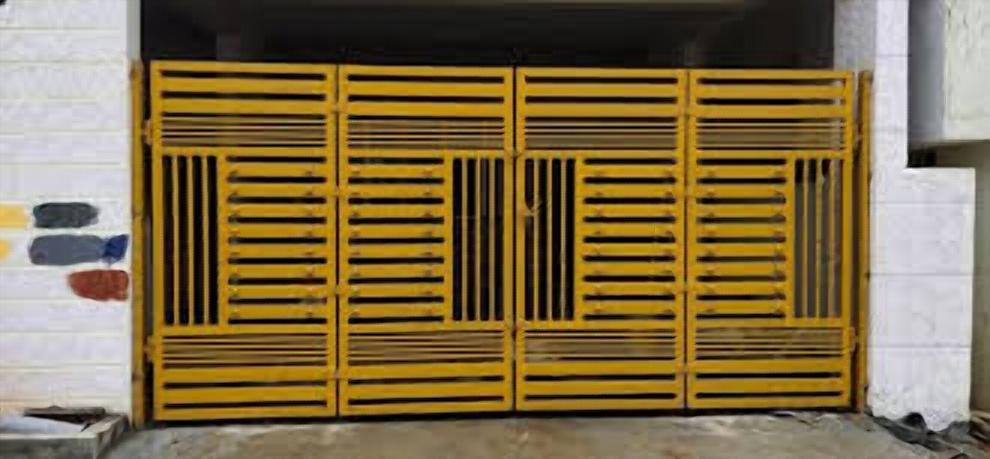Gate: (144, 61, 872, 419)
